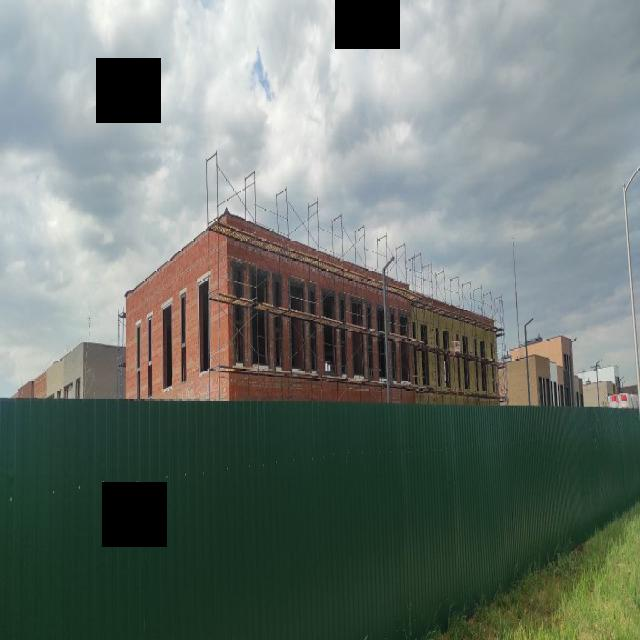Building: (125, 213, 500, 406)
